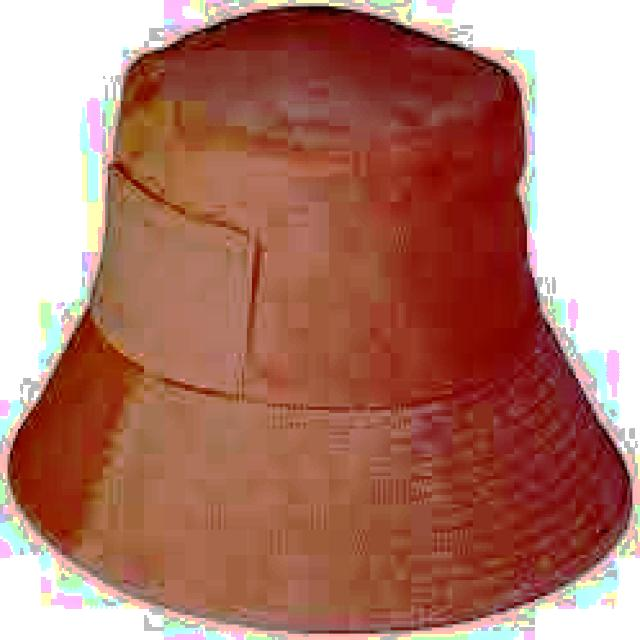TOPI: (5, 4, 630, 628)
